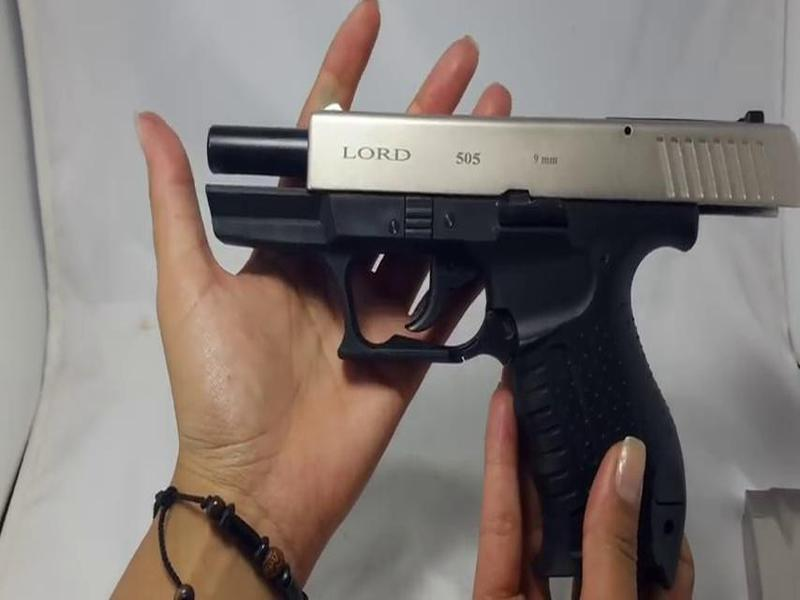Pistola: (172, 84, 794, 574)
